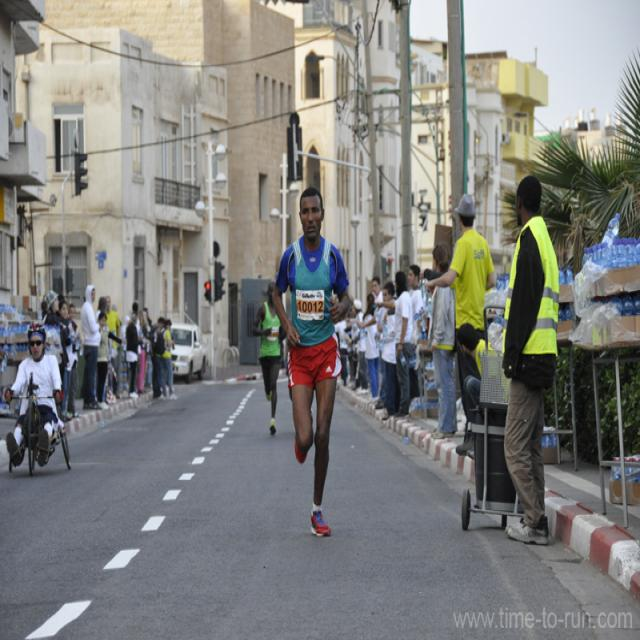Bib: (298, 302, 323, 318)
